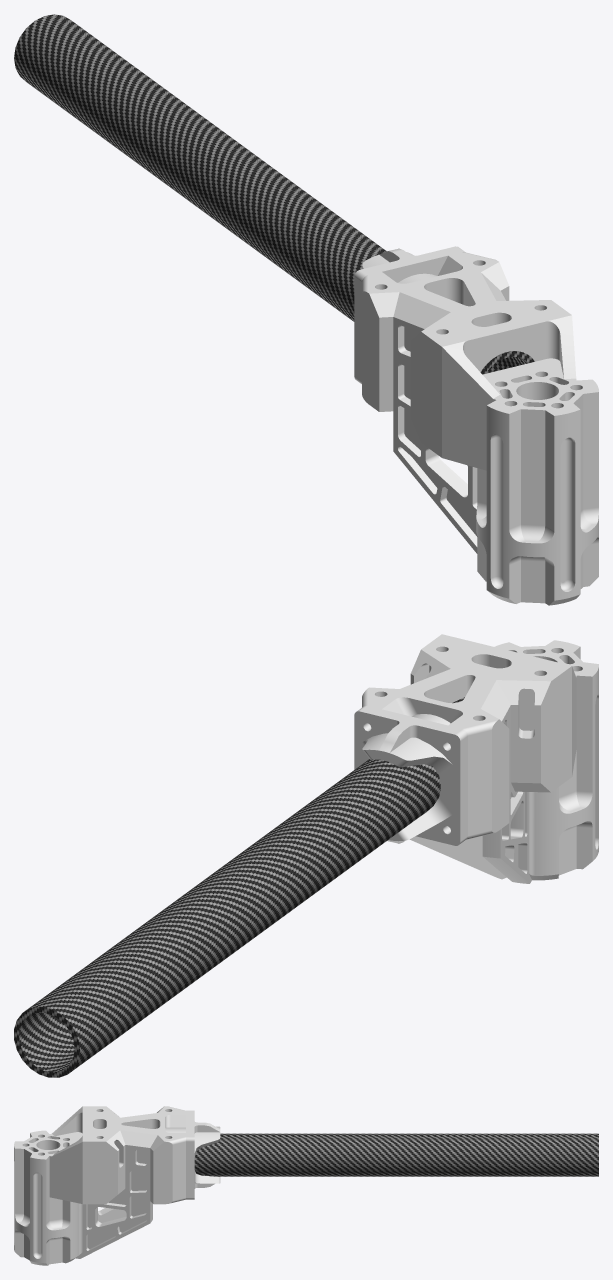
File: sub_leg_1_lit.obj
3 renders of one model, top to bottom at view 1: azimuth 30°, elevation 25°; view 2: azimuth 150°, elevation 25°; view 3: azimuth 270°, elevation 25°, orthographic. The views are drawn at different scales.
Parts seen in each view (by area): view 1: Solid1:2, Solid1, Solid1:1, Solid1:3; view 2: Solid1:2, Solid1:1, Solid1, Solid1:3; view 3: Solid1:2, Solid1, Solid1:1, Solid1:3.
Part boxes in pixels (x1,y1,x2,y2): Solid1:2: [14, 14, 534, 374]; Solid1: [362, 344, 598, 605]; Solid1:1: [362, 252, 598, 433]; Solid1:3: [354, 246, 465, 383]; Solid1:2: [14, 697, 464, 1077]; Solid1:1: [362, 634, 598, 785]; Solid1: [409, 685, 598, 883]; Solid1:3: [354, 705, 467, 845]; Solid1:2: [194, 1133, 598, 1176]; Solid1: [14, 1156, 185, 1265]; Solid1:1: [14, 1106, 185, 1172]; Solid1:3: [186, 1110, 220, 1199].
Bounding box in the file's own units: 49 × 83 × 340.
